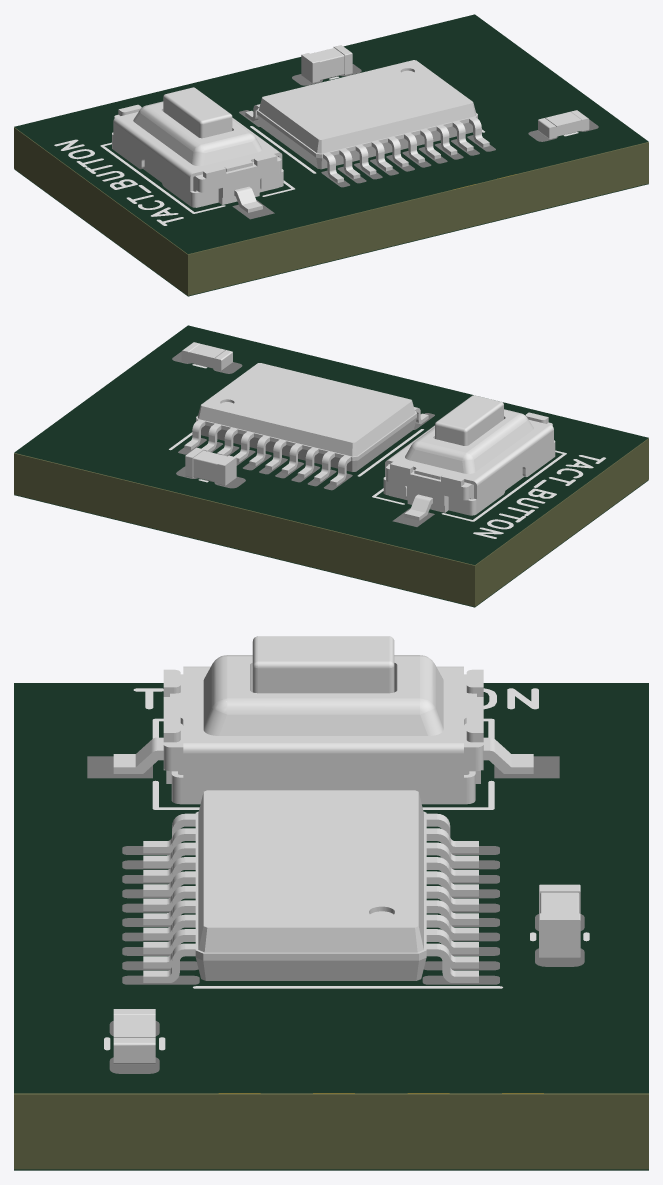
File: REPLICATE_glue_button_tact.glb
3 renders of one model, top to bottom at view 1: azimuth 30°, elevation 25°; view 2: azimuth 150°, elevation 25°; view 3: azimuth 270°, elevation 25°, orthographic. The views are drawn at different scales.
Visible parts, largest first — view 1: Face.002, Compound.009, Compound.008, Compound.006, Face.001, Face.004, Compound.002, Compound.004, Face.003; view 2: Face.002, Compound.009, Compound.008, Compound.006, Face.004, Face.001, Compound.002, Compound.004, Face.003; view 3: Face.002, Compound.008, Compound.009, Compound.006, Face.001, Face.004, Compound.002, Compound.004, Face.003.
Boxes of the visible parts, left/top/right/bottom form: Face.002: left=14, top=14, right=648, bottom=253; Compound.009: left=14, top=127, right=648, bottom=295; Compound.008: left=245, top=60, right=489, bottom=182; Compound.006: left=112, top=87, right=283, bottom=212; Face.001: left=232, top=64, right=598, bottom=219; Face.004: left=54, top=76, right=578, bottom=225; Compound.002: left=301, top=45, right=352, bottom=83; Compound.004: left=538, top=110, right=589, bottom=138; Face.003: left=14, top=169, right=648, bottom=296; Face.002: left=14, top=325, right=648, bottom=564; Compound.009: left=14, top=438, right=648, bottom=606; Compound.008: left=184, top=363, right=428, bottom=485; Compound.006: left=383, top=395, right=555, bottom=520; Face.004: left=169, top=364, right=605, bottom=538; Face.001: left=172, top=351, right=434, bottom=526; Compound.002: left=185, top=447, right=236, bottom=485; Compound.004: left=181, top=342, right=232, bottom=371; Face.003: left=14, top=480, right=648, bottom=607; Face.002: left=14, top=683, right=648, bottom=1093; Compound.008: left=143, top=790, right=478, bottom=982; Compound.009: left=14, top=1093, right=648, bottom=1169; Compound.006: left=113, top=636, right=533, bottom=804; Face.001: left=87, top=756, right=584, bottom=1073; Face.004: left=104, top=688, right=589, bottom=1050; Compound.002: left=539, top=884, right=580, bottom=957; Compound.004: left=113, top=1009, right=155, bottom=1064; Face.003: left=14, top=1169, right=648, bottom=1170.
Bounding box in the file's own units: 18.5 × 4.11 × 12.1.
